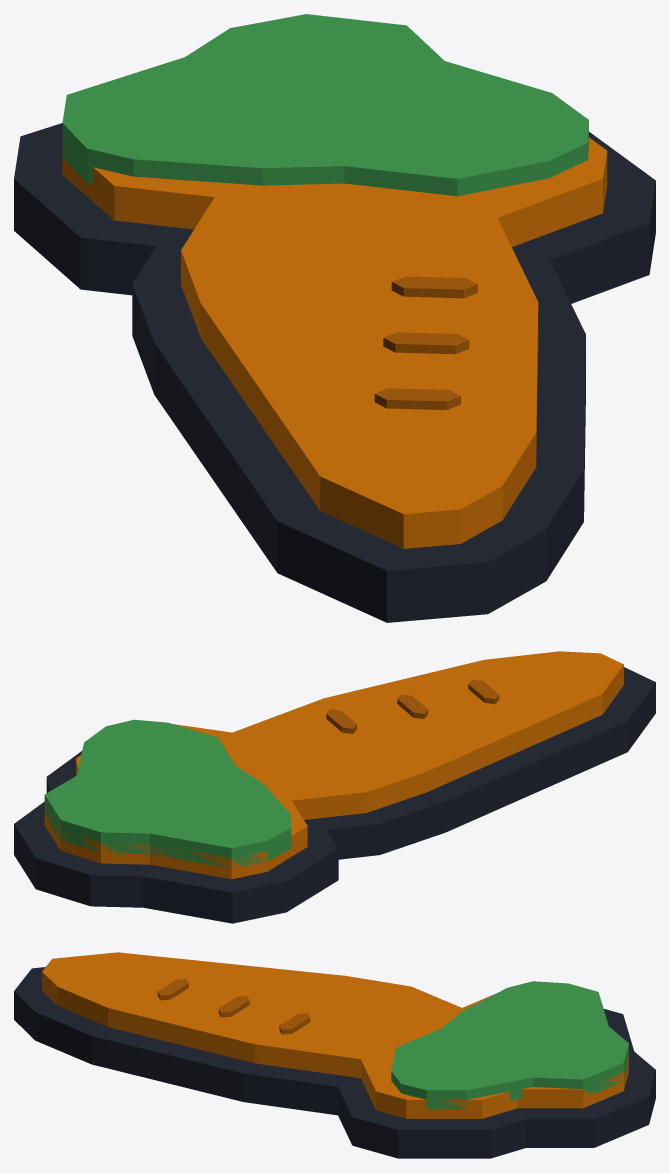
The model's file is carrot.fbx.
3 views of the same model, one above another, from view 1: azimuth 30°, elevation 25°; view 2: azimuth 150°, elevation 25°; view 3: azimuth 270°, elevation 25° (orthographic). The views are drawn at different scales.
Visible parts, largest first — view 1: carrot; view 2: carrot; view 3: carrot.
Part boxes in pixels (bbox=[...]): carrot: bbox=[14, 14, 655, 622]; carrot: bbox=[14, 651, 655, 923]; carrot: bbox=[14, 952, 655, 1158].
Bounding box in the file's own units: 0.7649 × 0.12 × 1.22.
1 material, 1 textured.
